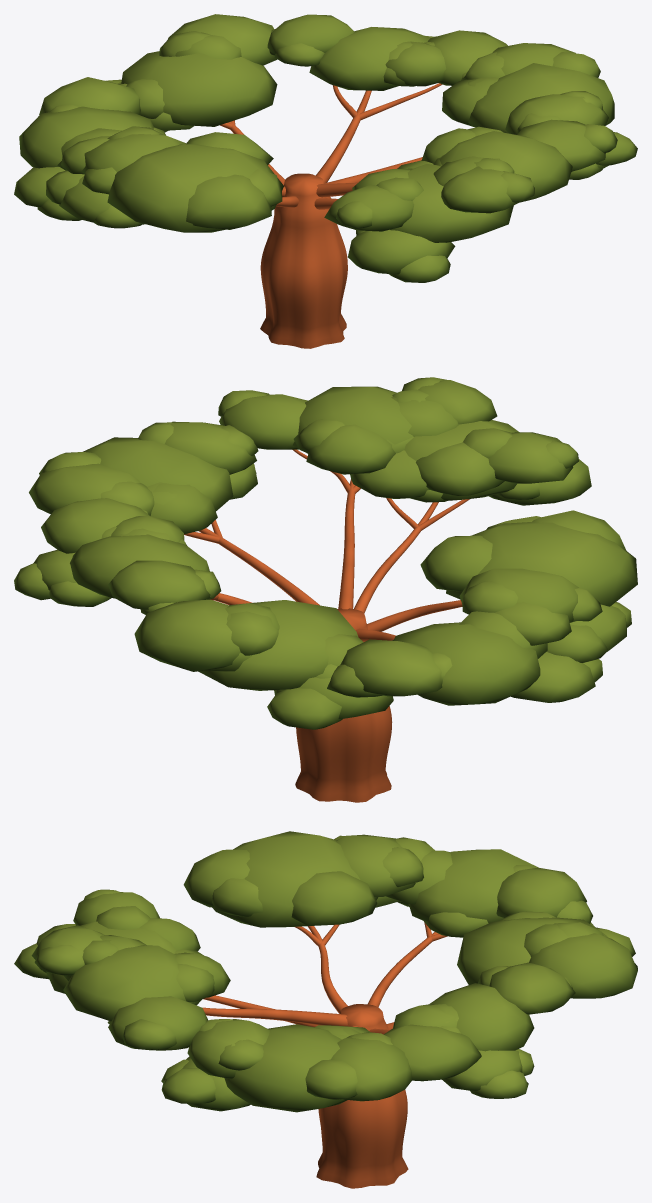
Rendered from baobab_bottle.glb.
3 views of the same model, one above another, from view 1: azimuth 30°, elevation 25°; view 2: azimuth 150°, elevation 25°; view 3: azimuth 270°, elevation 25° (orthographic). The views are drawn at different scales.
Visible parts, largest first — view 1: baobab_bottle_leaves, baobab_bottle_bark; view 2: baobab_bottle_leaves, baobab_bottle_bark; view 3: baobab_bottle_leaves, baobab_bottle_bark.
Boxes of the visible parts, x1,y1,x2,y2 form: baobab_bottle_leaves: [14, 14, 637, 282]; baobab_bottle_bark: [220, 83, 442, 348]; baobab_bottle_leaves: [14, 377, 637, 729]; baobab_bottle_bark: [184, 449, 469, 802]; baobab_bottle_leaves: [14, 831, 637, 1112]; baobab_bottle_bark: [202, 922, 447, 1188].
Size of the model in its own units: 40.47 by 17.72 by 38.98.
